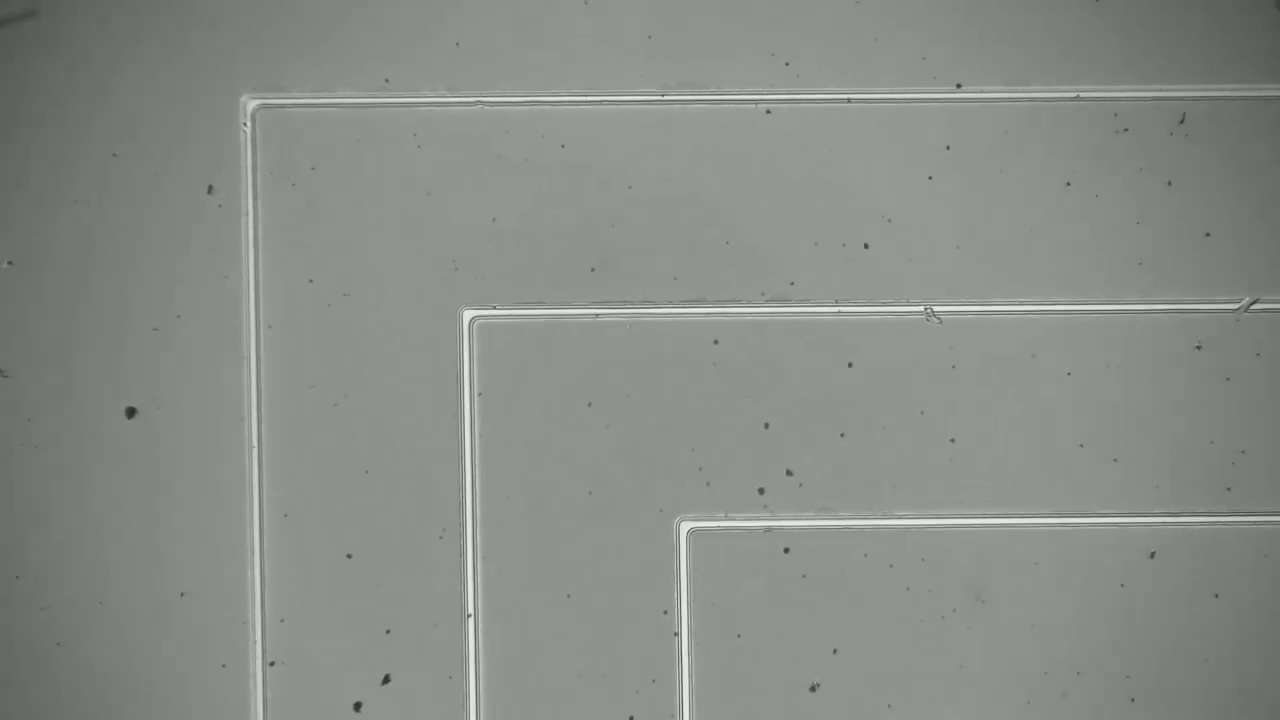open: (1217, 290, 1271, 324)
stains_enbedded: (908, 287, 951, 335)
